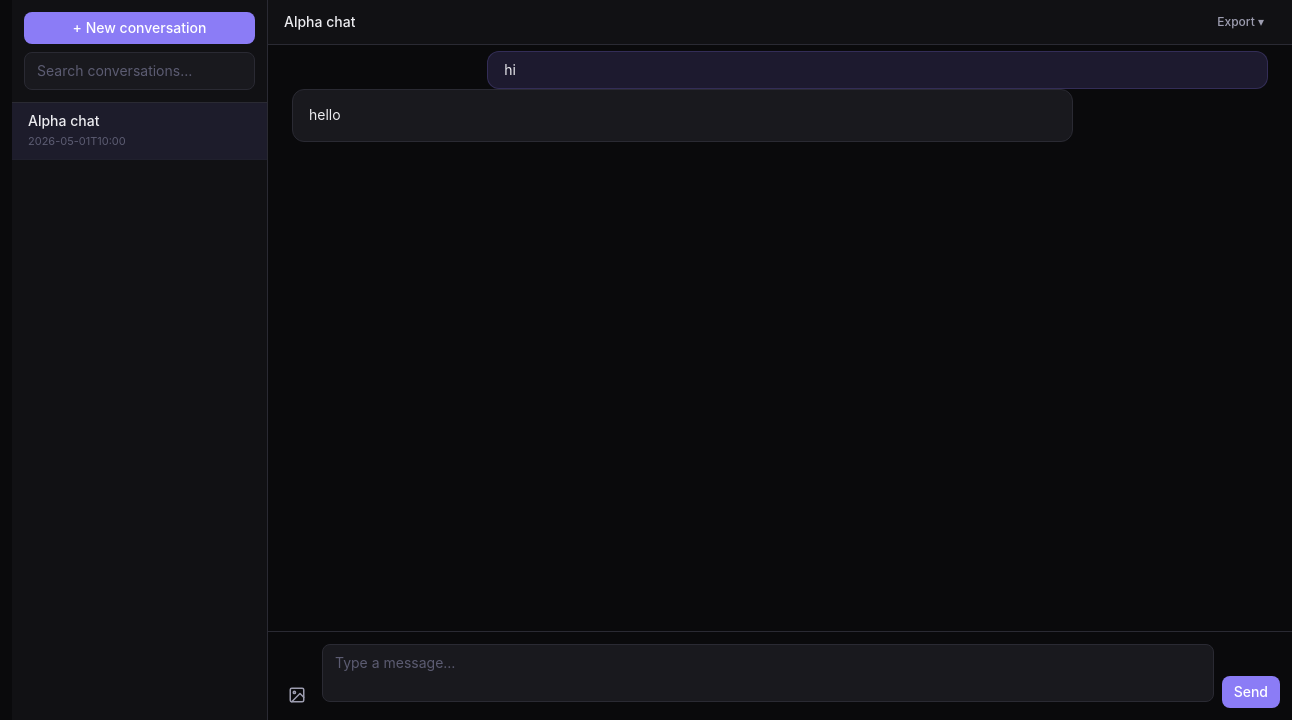
Test case: ChatView conversation search › clicking a result switches activeConversationId and clears the input
This screenshot has width=1292, height=720.
Expected: the button with test id "chat-export-button" is enabled, [1205, 8, 1276, 36]
In the field with test id "chat-search-input": {"x": 140, "y": 71} [24, 52, 255, 90], type "fluffy"
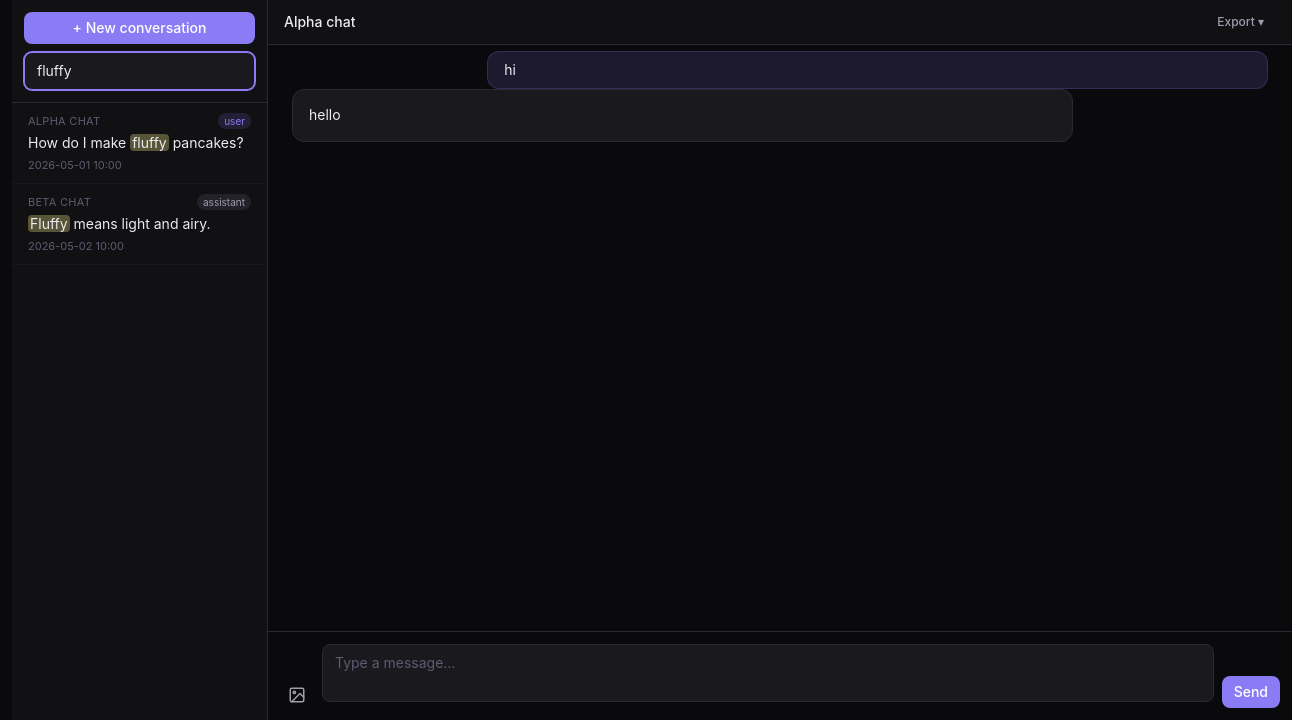
Now the button with test id "chat-search-result-msg-B" is shown
Click the button with test id "chat-search-result-msg-B": {"x": 140, "y": 224} [12, 184, 267, 265]
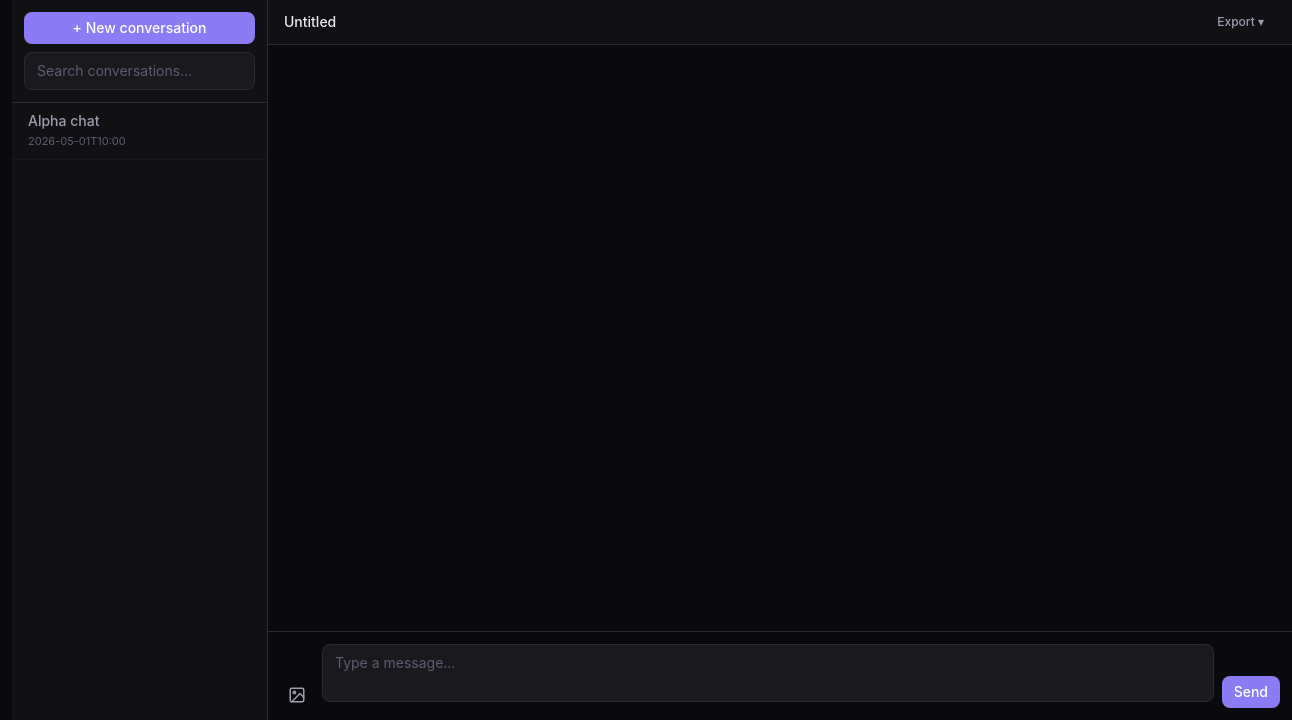
Now the field with test id "chat-search-input" is empty, box [24, 52, 255, 90]
Now the element with test id "chat-search-results" is gone
